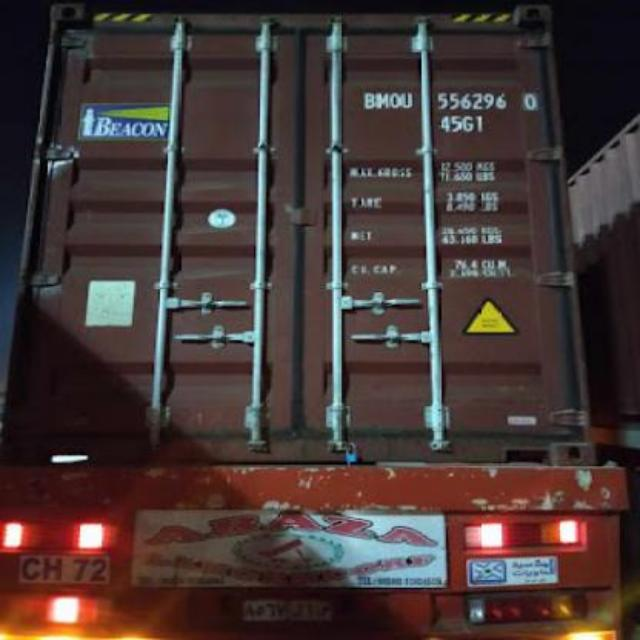2: (470, 91, 482, 112)
5: (424, 87, 450, 113), (450, 85, 462, 111)
6: (498, 90, 512, 114), (460, 88, 472, 109)
9: (484, 92, 494, 112)
B: (361, 88, 374, 108)
M: (371, 88, 392, 108)
O: (388, 88, 400, 108)
U: (398, 88, 414, 108)
